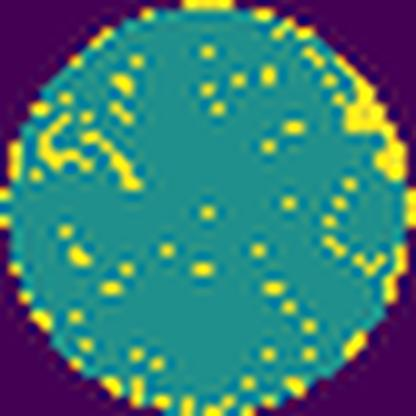Edge-Loc: (328, 52, 409, 188)
